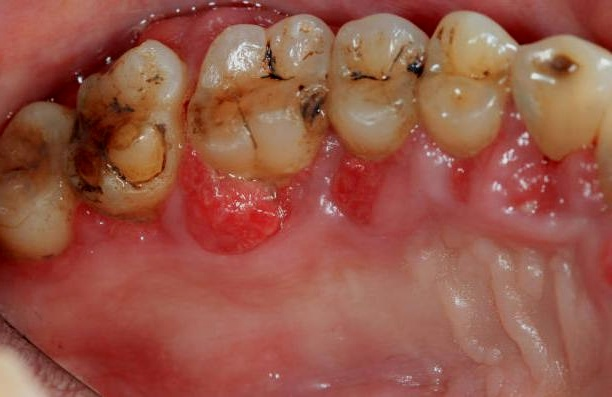Gingivitis: (173, 168, 284, 257), (326, 154, 398, 226)
